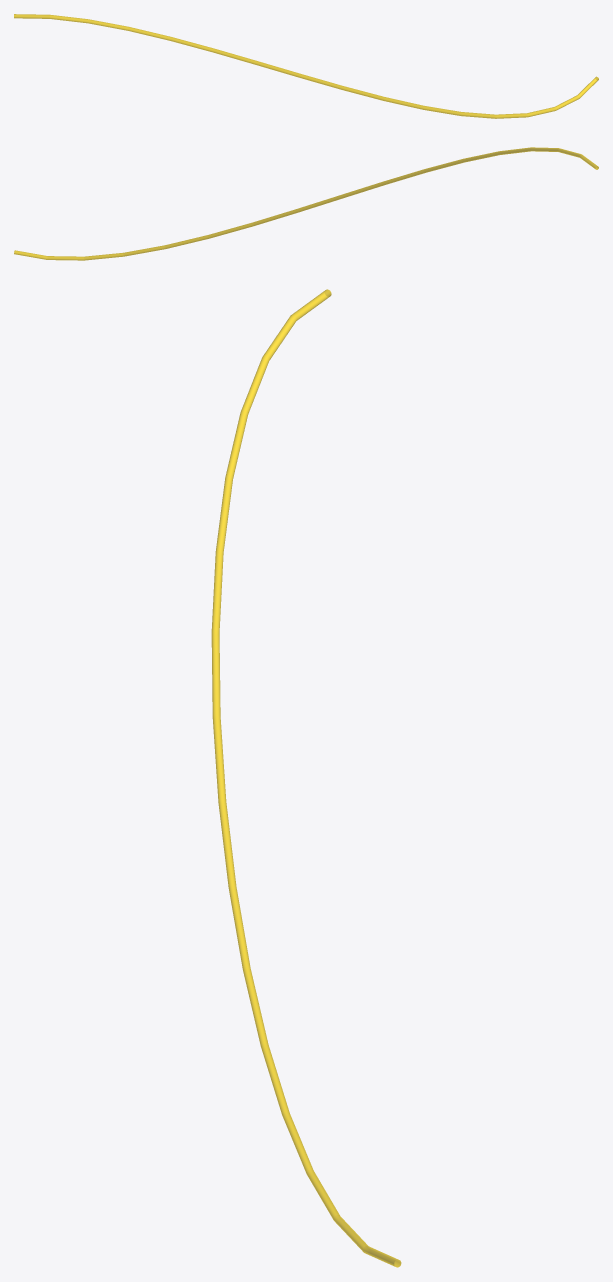
Rendered from Event_15818458_track_41.fbx.
The picture shows the model from 3 angles, top to bottom: view 1: azimuth 30°, elevation 25°; view 2: azimuth 150°, elevation 25°; view 3: azimuth 270°, elevation 25°; orthographic projection. The views are drawn at different scales.
Visible parts, largest first — view 1: Model; view 2: Model; view 3: Model.
Boxes of the visible parts, <box> form: Model: <box>14,14,598,118</box>; Model: <box>14,147,598,260</box>; Model: <box>211,289,401,1267</box>.
Size of the model in its own units: 6.56 by 2.41 by 0.9496.
